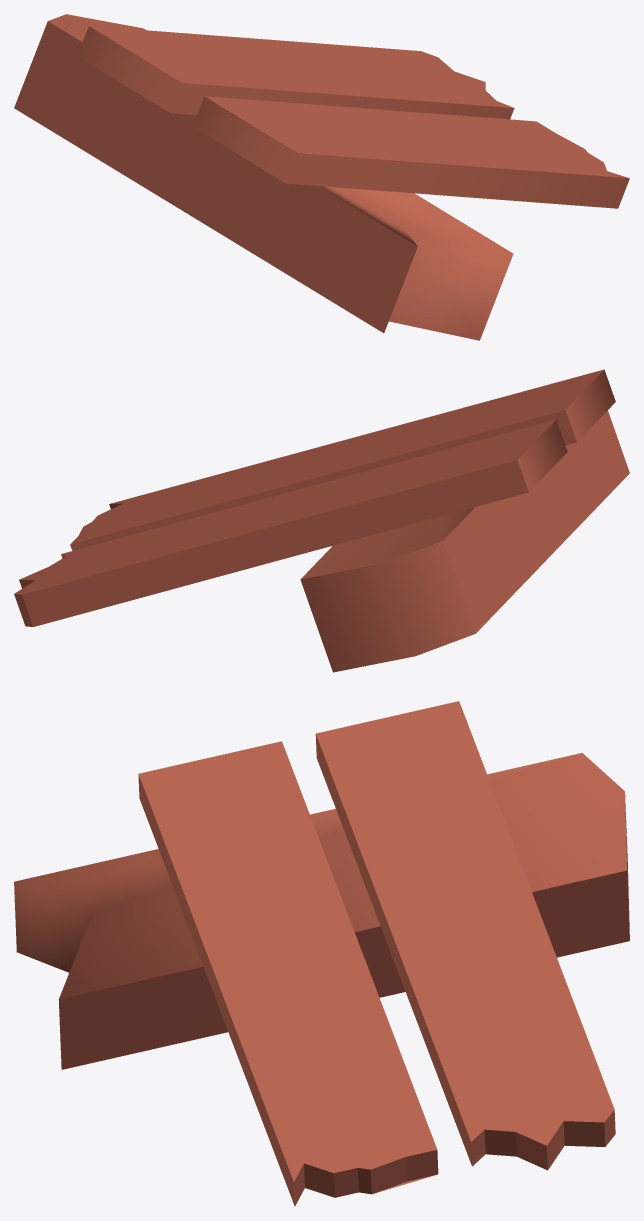
The model's file is broken-fences.fbx.
3 views of the same model, one above another, from view 1: azimuth 30°, elevation 25°; view 2: azimuth 150°, elevation 25°; view 3: azimuth 270°, elevation 25° (orthographic). The views are drawn at different scales.
Visible parts, largest first — view 1: Cube.043; view 2: Cube.043; view 3: Cube.043.
Boxes of the visible parts, x1,y1,x2,y2 form: Cube.043: (14, 14, 629, 340); Cube.043: (14, 369, 629, 672); Cube.043: (14, 701, 629, 1206).
Size of the model in its own units: 36.25 by 17.12 by 36.43.
